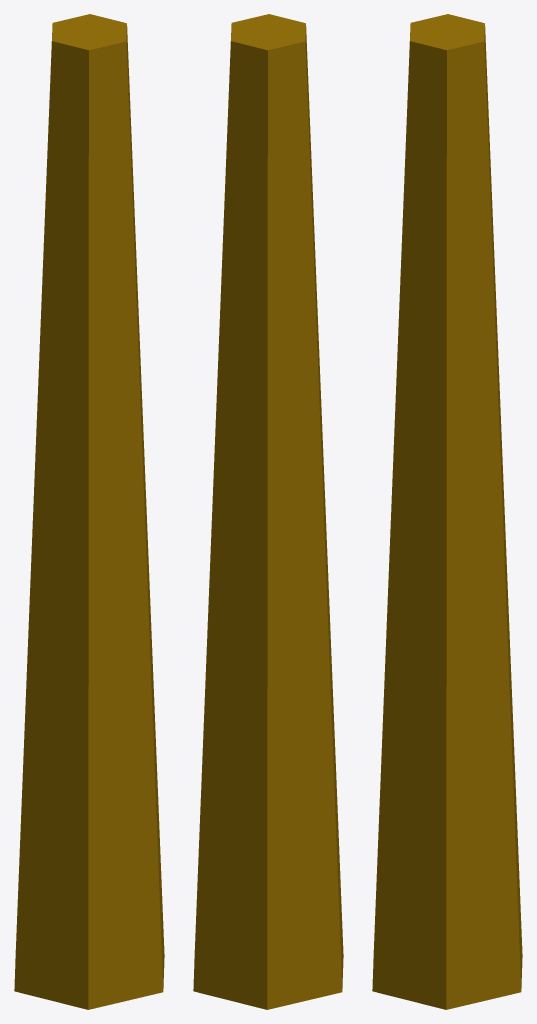
The model's file is Vegetation_Modular_Tree_Trunk_Alpine_07.fbx.
The picture shows the model from 3 angles, left to right: view 1: azimuth 30°, elevation 25°; view 2: azimuth 150°, elevation 25°; view 3: azimuth 270°, elevation 25°; orthographic projection.
Parts seen in each view (by area): view 1: Vegetation_Modular_Tree_Trunk_Alpine_07; view 2: Vegetation_Modular_Tree_Trunk_Alpine_07; view 3: Vegetation_Modular_Tree_Trunk_Alpine_07.
Boxes of the visible parts, <box> form: Vegetation_Modular_Tree_Trunk_Alpine_07: <box>14,14,164,1009</box>; Vegetation_Modular_Tree_Trunk_Alpine_07: <box>193,14,343,1009</box>; Vegetation_Modular_Tree_Trunk_Alpine_07: <box>372,14,522,1009</box>.
Size of the model in its own units: 13.54 by 81.8 by 11.82.
